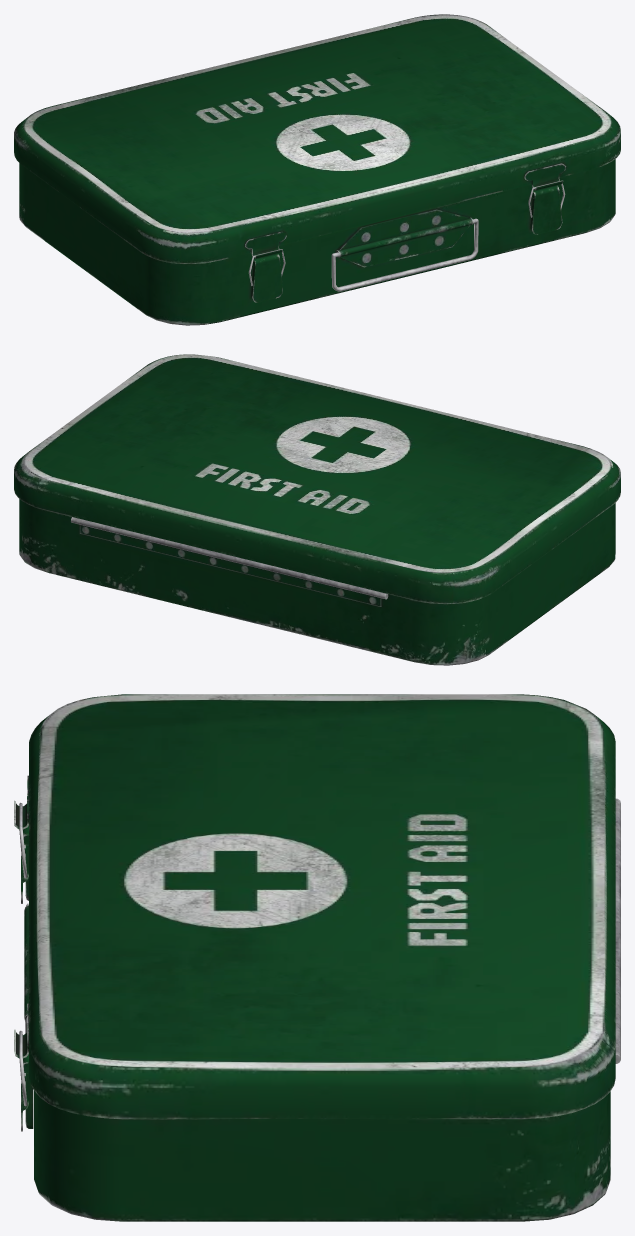
Rendered from medical_box.glb.
3 views of the same model, one above another, from view 1: azimuth 30°, elevation 25°; view 2: azimuth 150°, elevation 25°; view 3: azimuth 270°, elevation 25° (orthographic). The views are drawn at different scales.
Visible parts, largest first — view 1: medical_box_latch; view 2: medical_box_latch; view 3: medical_box_latch.
Boxes of the visible parts, box(x1,y1,x2,y2) form: medical_box_latch: box(14, 14, 620, 325); medical_box_latch: box(14, 354, 620, 665); medical_box_latch: box(14, 694, 620, 1221).
Bounding box in the file's own units: 0.5255 × 0.0975 × 0.3501.
Materials: 1 (1 with a texture image).
